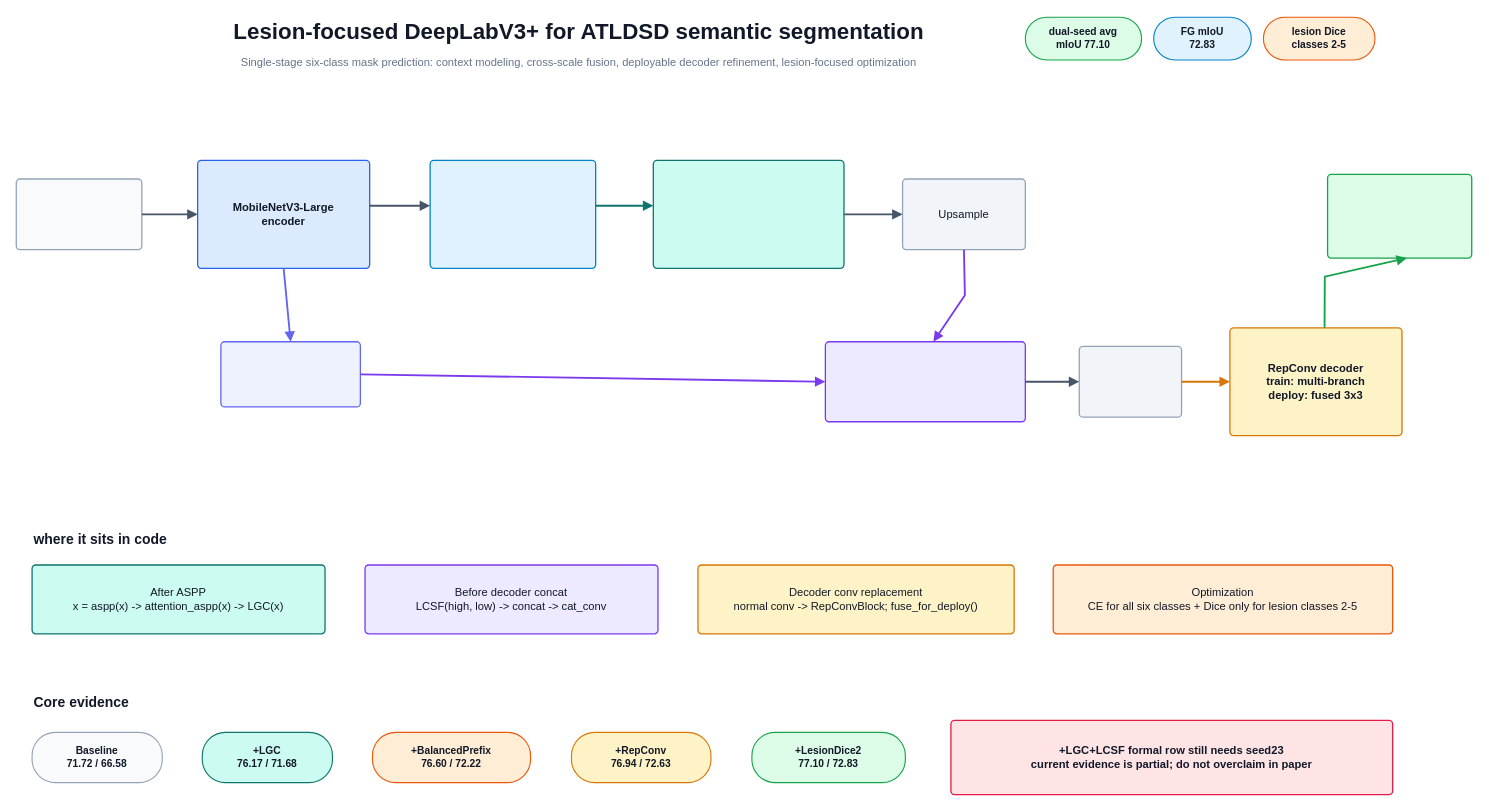
This 1489x811 diagram has some shape labels left out. The shapes that lost their labels are listed below. From the top down, each one's box as (x1, y1, x2, y2) in pixels, then its label:
(15, 178, 142, 250): Input image 384 x 384
(429, 159, 596, 268): ASPP high-level semantics
(652, 159, 844, 268): LGC local-global lesion context
(1326, 173, 1472, 258): Six-class mask background / leaf / 4 lesions
(220, 341, 361, 407): Low-level feature boundary detail
(824, 341, 1026, 422): LCSF semantic-boundary fusion
(1078, 345, 1182, 417): Concat
